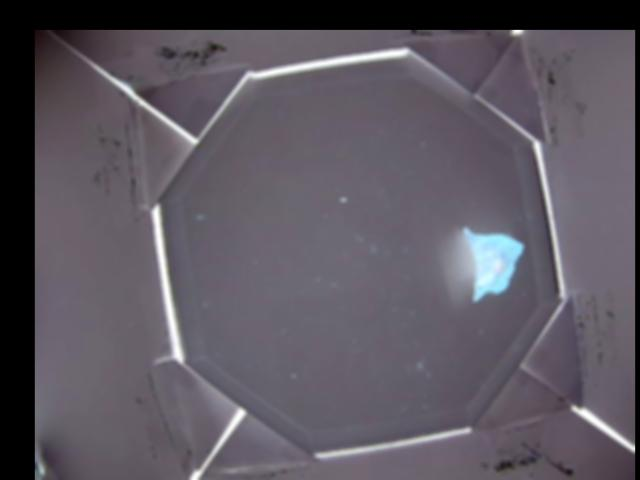Brisk: (462, 225, 524, 298)
